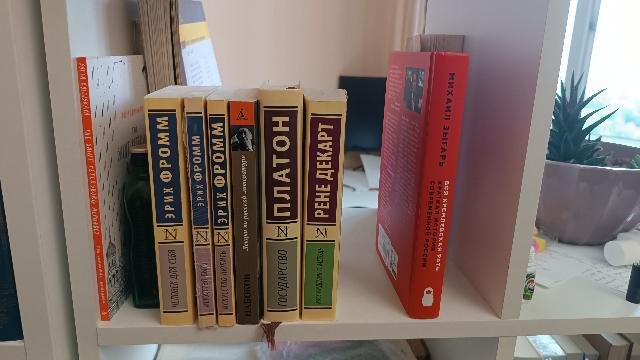book-s-spine: (409, 52, 470, 319), (144, 98, 193, 326), (259, 89, 301, 323), (302, 101, 346, 322), (77, 58, 109, 322), (184, 98, 215, 328), (229, 102, 259, 325), (207, 100, 234, 327)
